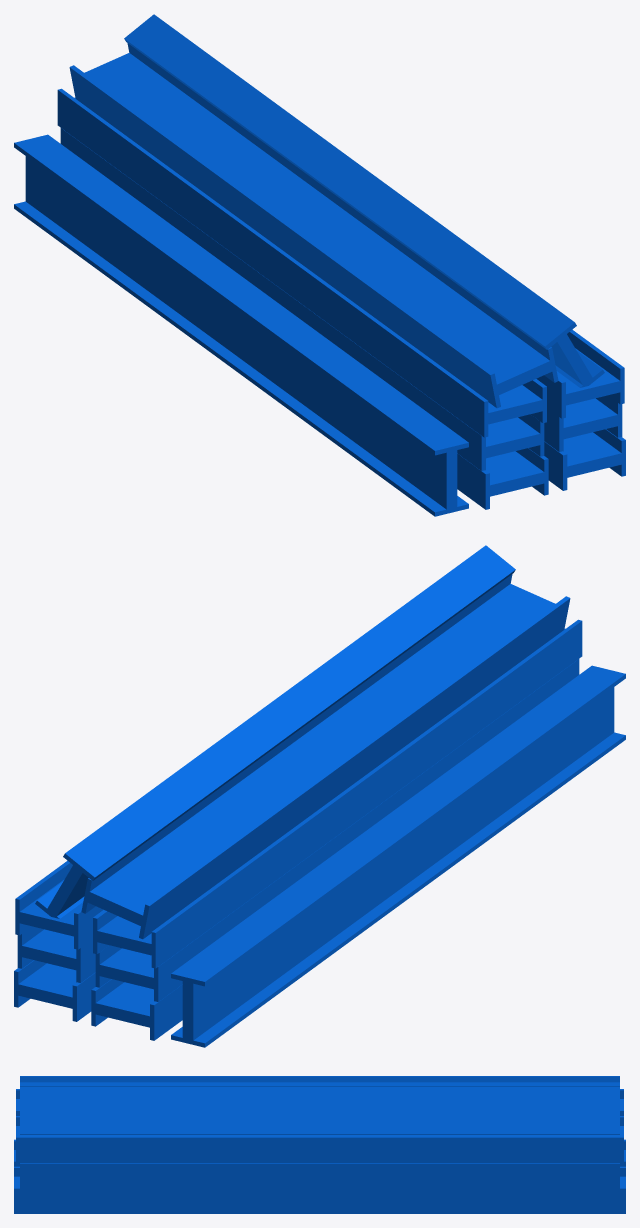
File: Metal_W_Pile_01_Lod0.fbx
3 renders of one model, top to bottom at view 1: azimuth 30°, elevation 25°; view 2: azimuth 150°, elevation 25°; view 3: azimuth 270°, elevation 25°, orthographic. The views are drawn at different scales.
Parts seen in each view (by area): view 1: Metal_W_Pile_01_Lod0; view 2: Metal_W_Pile_01_Lod0; view 3: Metal_W_Pile_01_Lod0.
Boxes of the visible parts, x1=… form: Metal_W_Pile_01_Lod0: x1=14, y1=14, x2=625, y2=516; Metal_W_Pile_01_Lod0: x1=14, y1=545, x2=625, y2=1047; Metal_W_Pile_01_Lod0: x1=14, y1=1076, x2=625, y2=1213.
Size of the model in its own units: 154 by 127 by 612.
